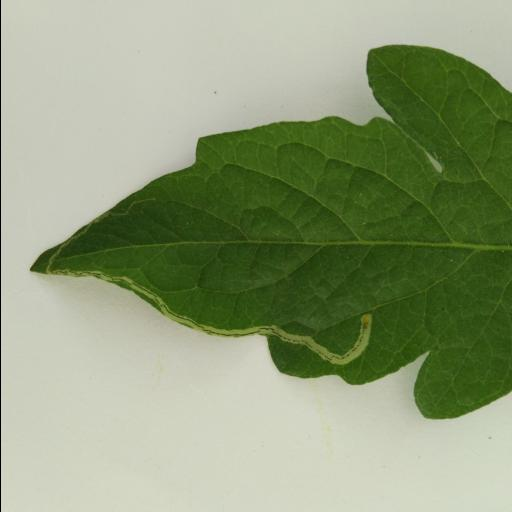Leaf Miner: (23, 42, 512, 418)
